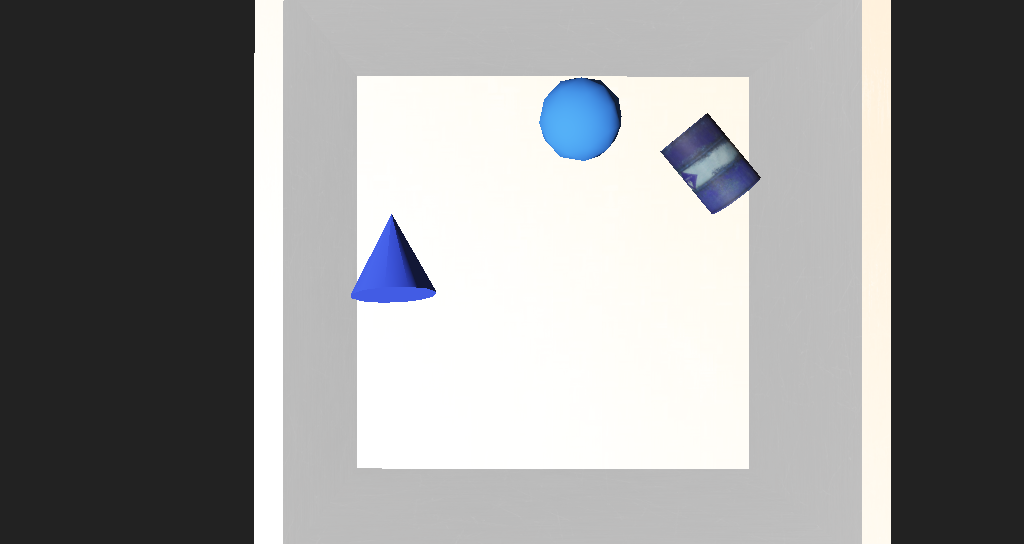cone: (586, 181, 667, 239)
cylinder: (347, 229, 421, 286)
sphere: (495, 162, 556, 210)
